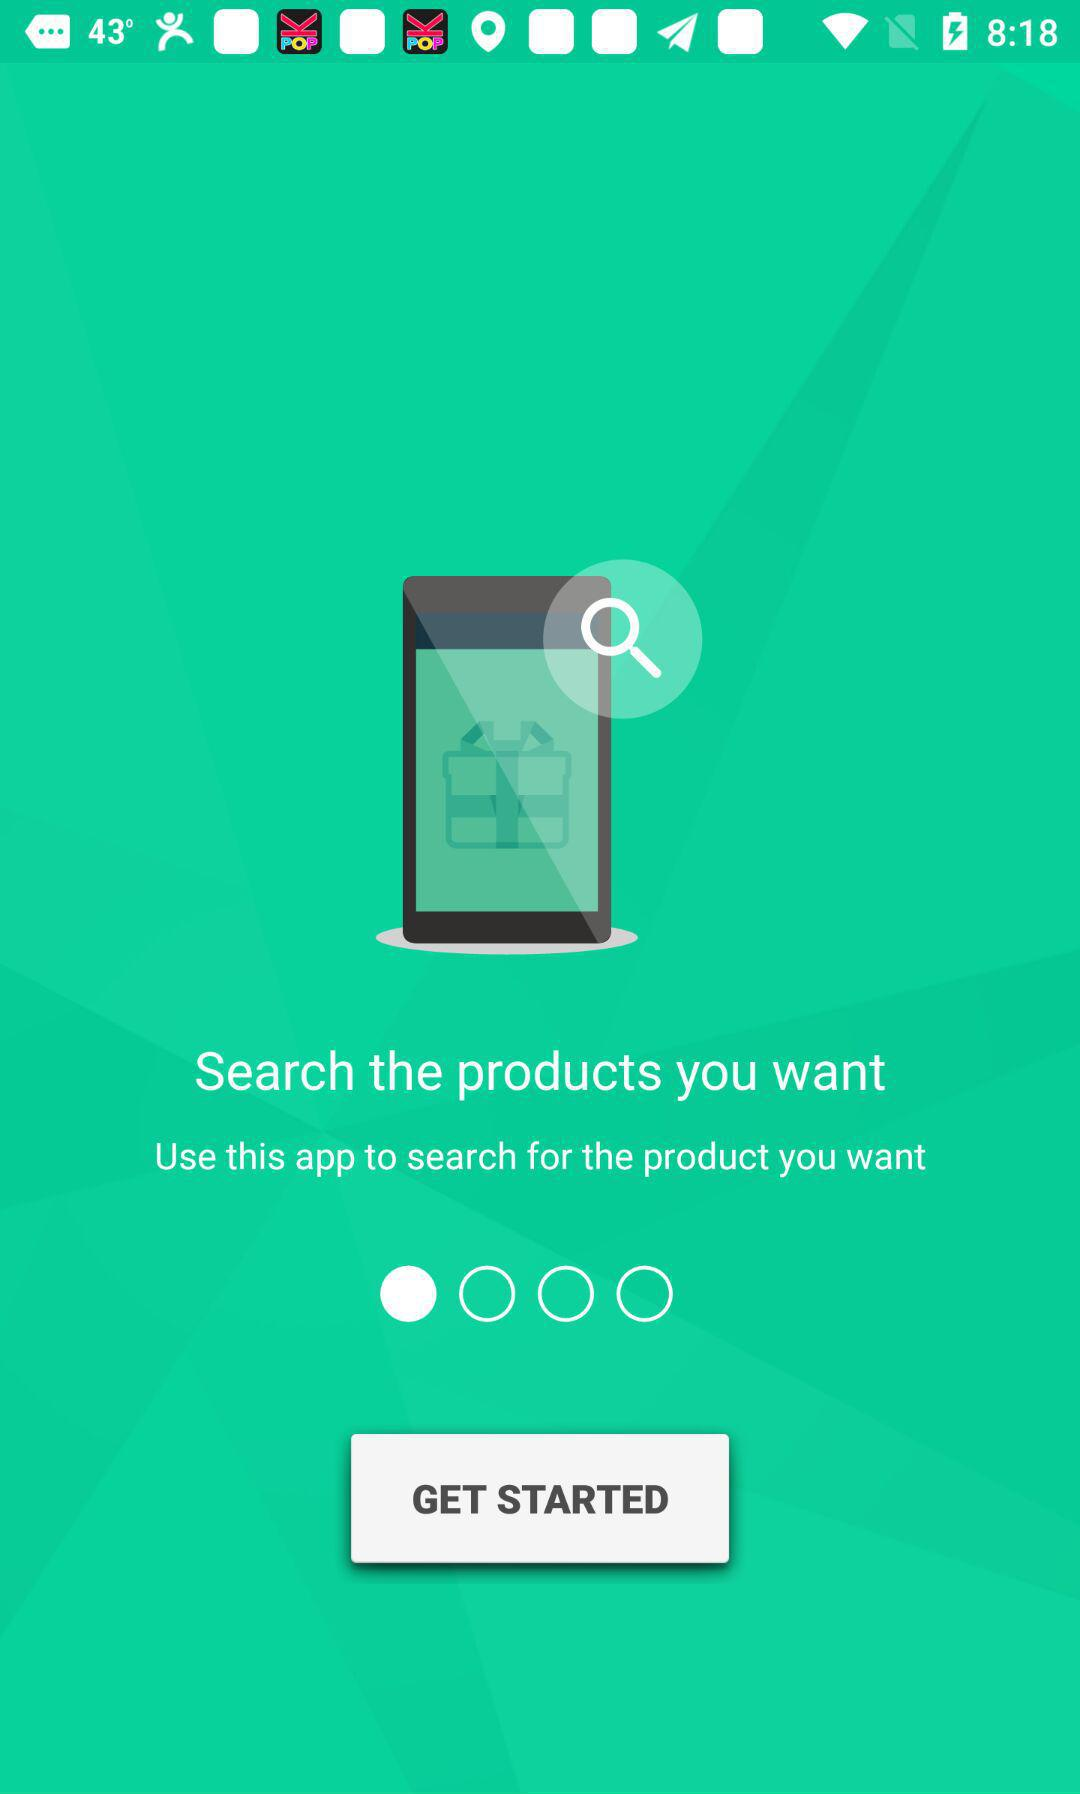Image: (375, 559, 703, 956)
PageIndicator: (379, 1263, 675, 1324)
Text: (196, 1049, 887, 1103), (156, 1140, 928, 1179)
TextButton: (351, 1434, 730, 1565)
UpperTaskBar: (1, 1, 1080, 64)
